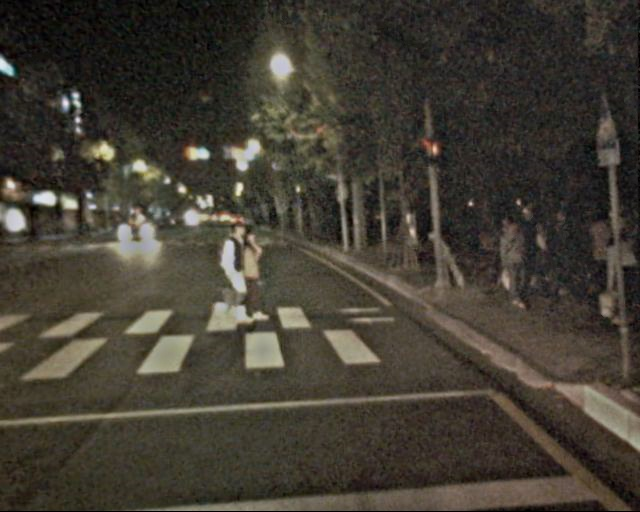person: (498, 211, 577, 305), (216, 216, 259, 322), (596, 231, 637, 330), (234, 230, 272, 322), (583, 214, 617, 298)
